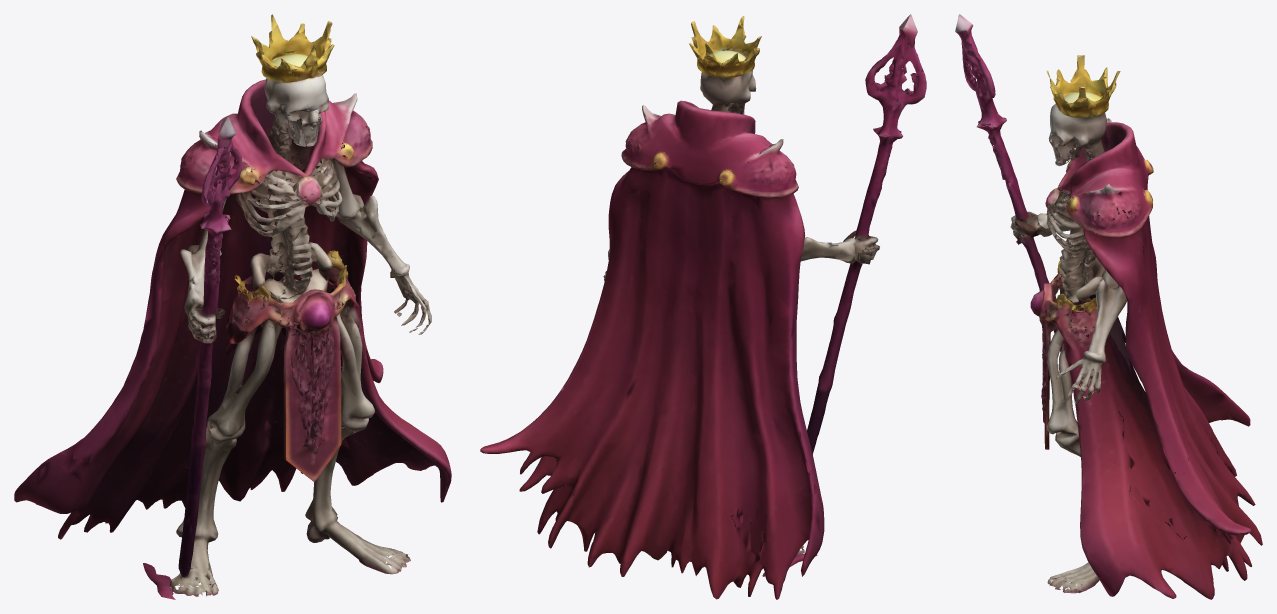
File: fig_boss_bone_cantor.glb
3 renders of one model, left to right at view 1: azimuth 30°, elevation 25°; view 2: azimuth 150°, elevation 25°; view 3: azimuth 270°, elevation 25°, orthographic. The views are drawn at different scales.
Visible parts, largest first — view 1: geometry_0; view 2: geometry_0; view 3: geometry_0.
Part boxes in pixels (bbox=[...]): geometry_0: bbox=[14, 14, 451, 599]; geometry_0: bbox=[480, 14, 926, 599]; geometry_0: bbox=[955, 14, 1262, 599].
Bounding box in the file's own units: 0.6374 × 0.9212 × 0.5377.
1 material, 1 textured.
